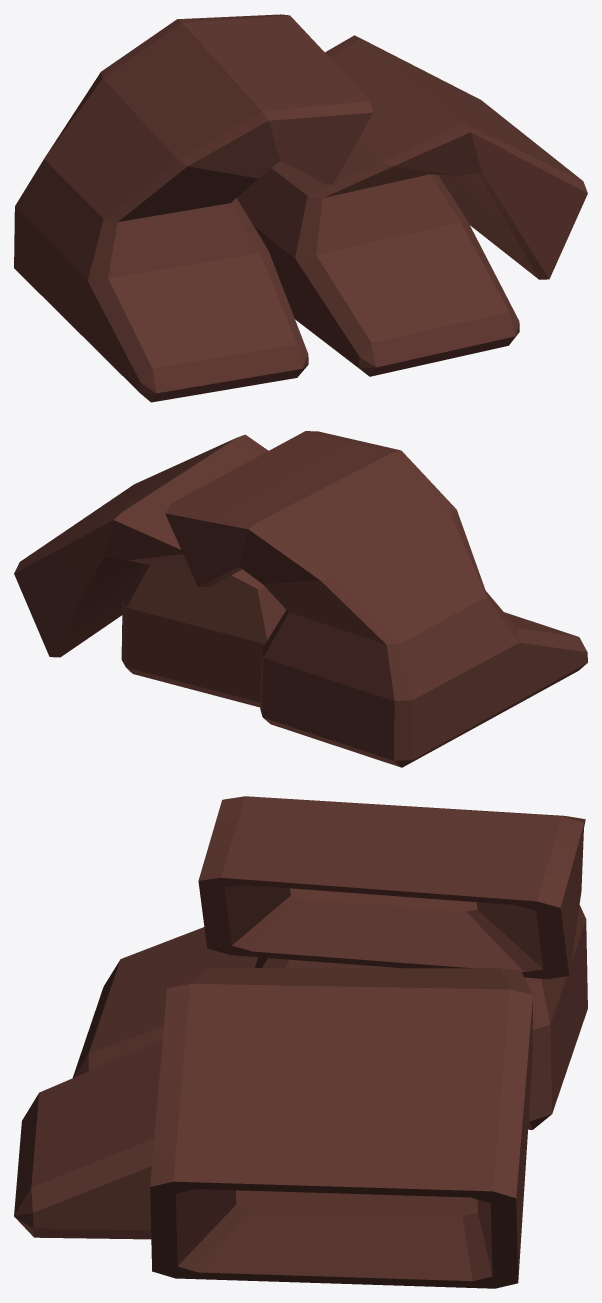
Rendered from shoes_1.fbx.
The picture shows the model from 3 angles, top to bottom: view 1: azimuth 30°, elevation 25°; view 2: azimuth 150°, elevation 25°; view 3: azimuth 270°, elevation 25°; orthographic projection. The views are drawn at different scales.
Parts seen in each view (by area): view 1: shelving.022; view 2: shelving.022; view 3: shelving.022.
Boxes of the visible parts, x1,y1,x2,y2 form: shelving.022: (14, 14, 587, 402); shelving.022: (14, 431, 587, 767); shelving.022: (14, 796, 587, 1288).
Size of the model in its own units: 27.3 by 12.43 by 20.14.
